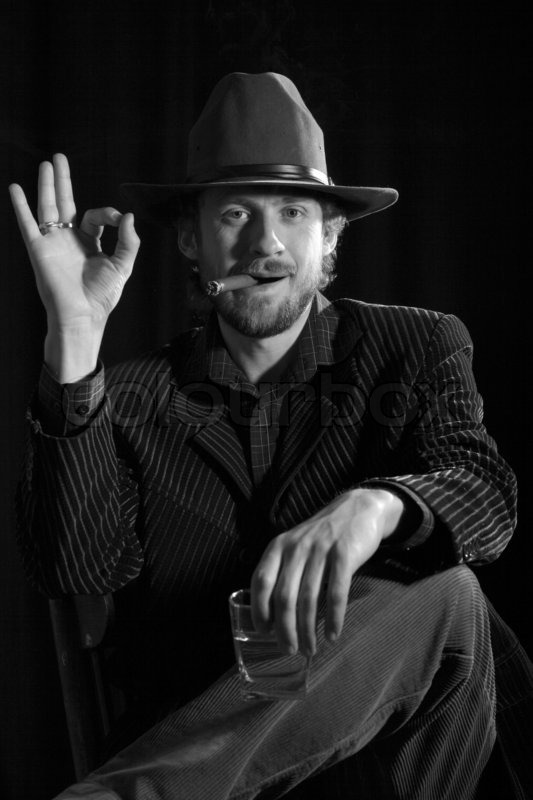cigarette: (198, 279, 267, 294)
